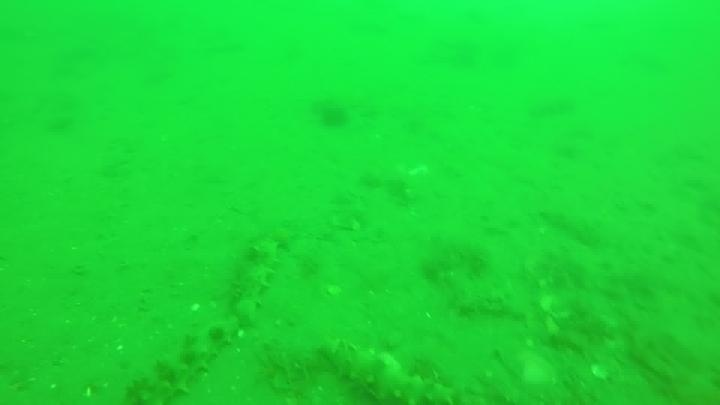echinus: (314, 99, 351, 131)
holothurian: (123, 315, 237, 403), (318, 337, 456, 404), (228, 235, 284, 326)
